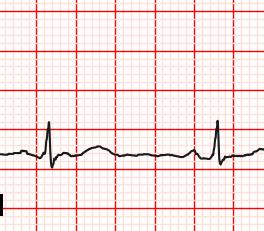LVH: (78, 145, 116, 161)
